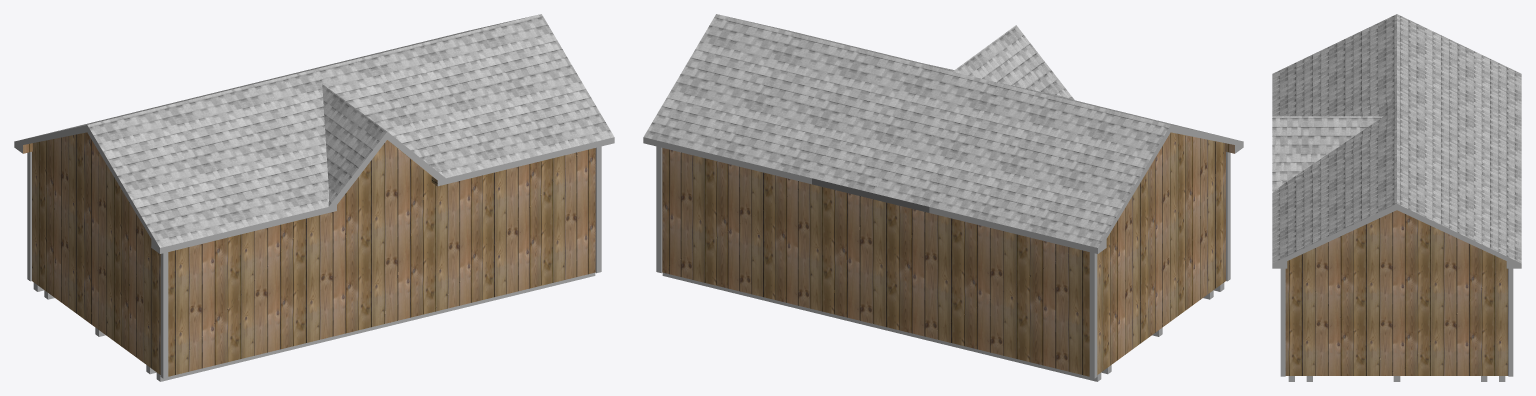
File: Victorian Shed_12x22.obj
3 views of the same model, side by side, from view 1: azimuth 30°, elevation 25°; view 2: azimuth 150°, elevation 25°; view 3: azimuth 270°, elevation 25° (orthographic). The views are drawn at different scales.
Parts seen in each view (by area): view 1: Shed, Roof, Sides, Trim, Floor; view 2: Shed, Roof, Sides, Trim, Floor; view 3: Roof, Shed, Sides, Trim.
Part boxes in pixels (left/top/right/bottom): Shed: left=23, top=132, right=595, bottom=376; Roof: left=24, top=14, right=614, bottom=247; Sides: left=14, top=125, right=614, bottom=253; Trim: left=27, top=146, right=601, bottom=378; Floor: left=33, top=272, right=595, bottom=381; Shed: left=662, top=132, right=1234, bottom=376; Roof: left=643, top=14, right=1233, bottom=247; Sides: left=643, top=125, right=1243, bottom=253; Trim: left=656, top=146, right=1230, bottom=378; Floor: left=662, top=272, right=1224, bottom=381; Roof: left=1272, top=14, right=1521, bottom=263; Shed: left=1285, top=210, right=1508, bottom=375; Sides: left=1272, top=204, right=1521, bottom=268; Trim: left=1280, top=268, right=1513, bottom=376.
Bounding box in the file's own units: 7.01 × 3.14 × 3.89.
